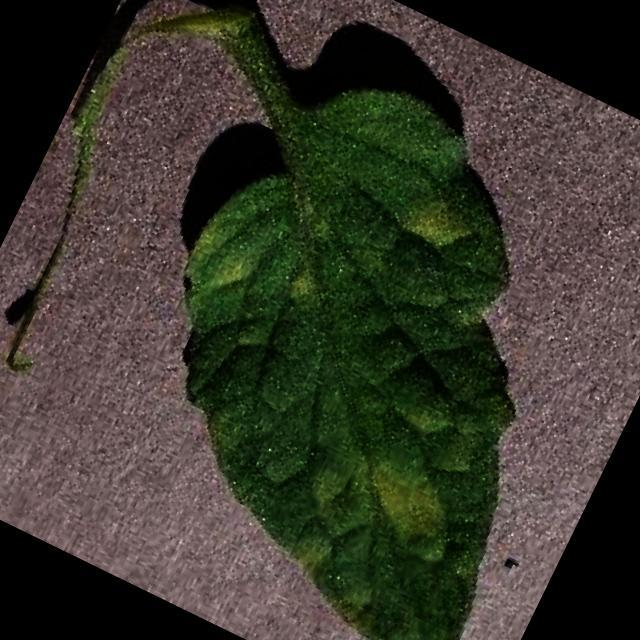Tomato mold leaf: (61, 36, 640, 640)
